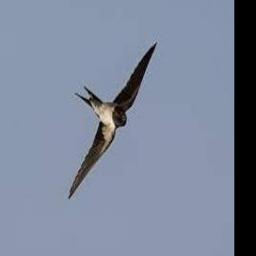Swallow: (67, 41, 157, 200)
